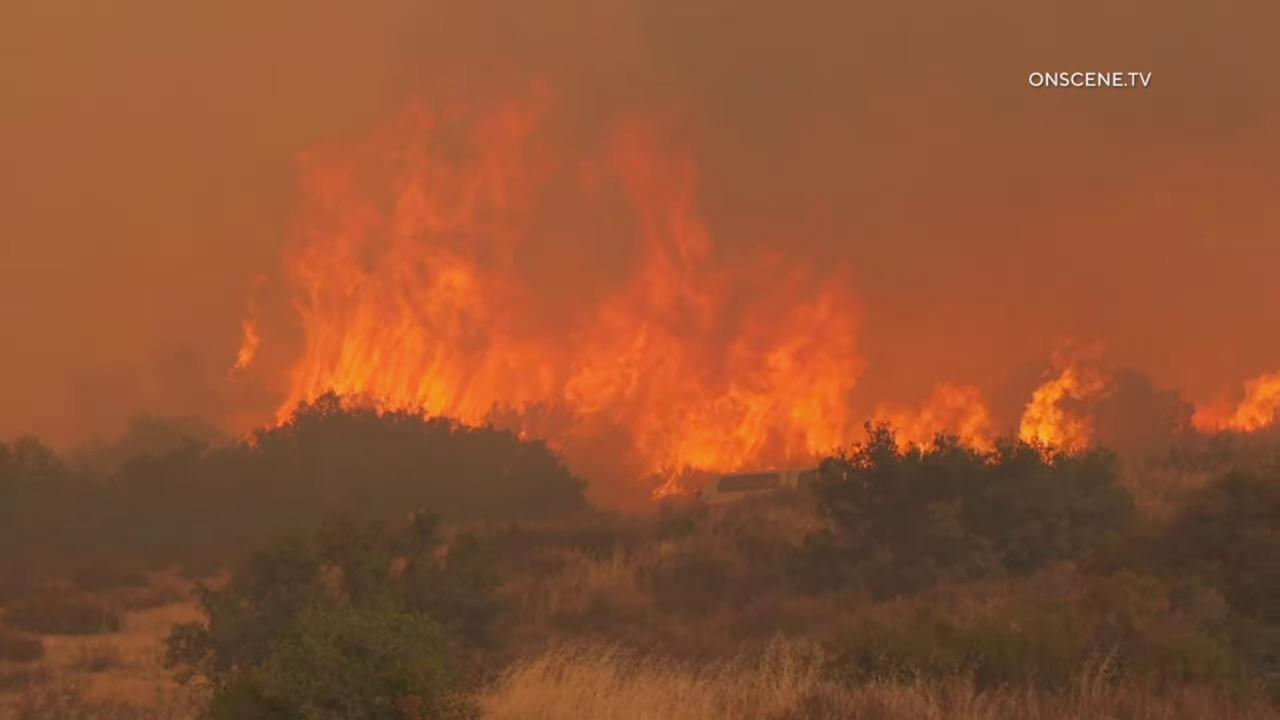fire: (272, 69, 1115, 509), (1176, 362, 1280, 438), (224, 312, 264, 373)
smoke: (0, 0, 1280, 524)
